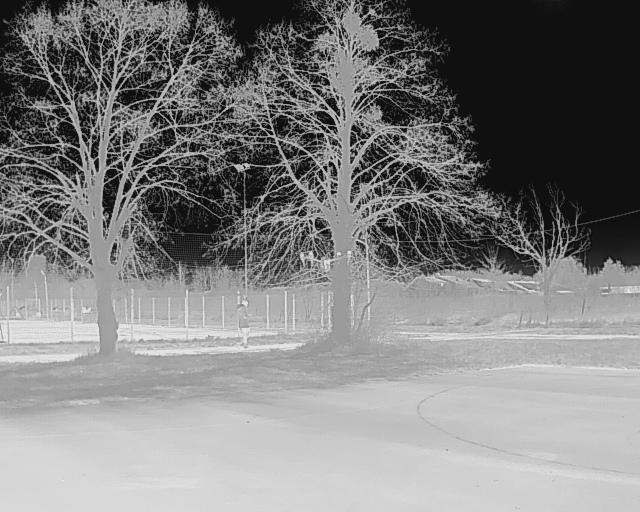drone: (287, 250, 318, 272)
